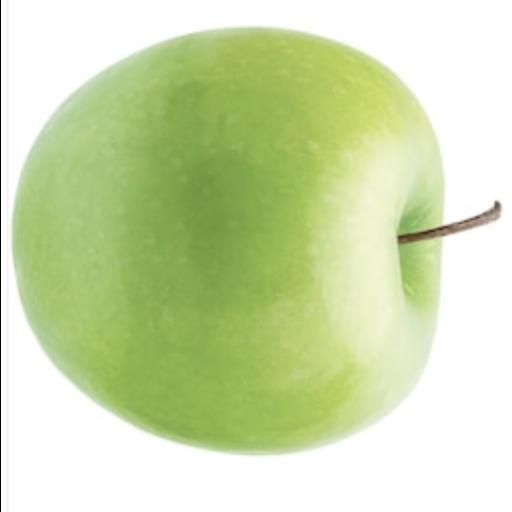apple: (13, 28, 442, 452)
